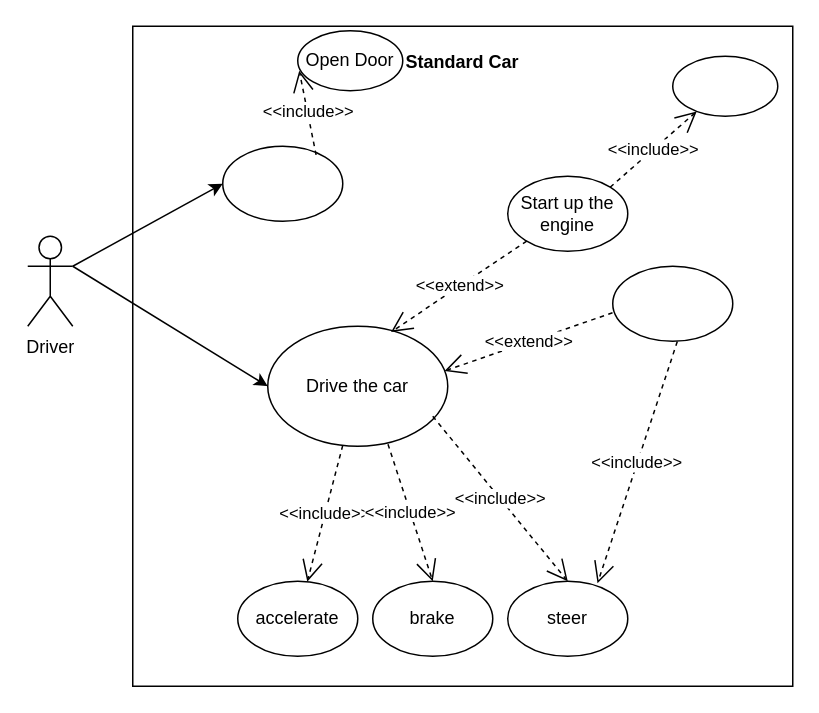
This 819x713 diagram has some shape labels left out. Here are the shapes that lost their labels. From the top down, the centre of each, then its label:
[724,85]: Turn on Ignition
[282,183]: Get into the car
[672,303]: Change lane
